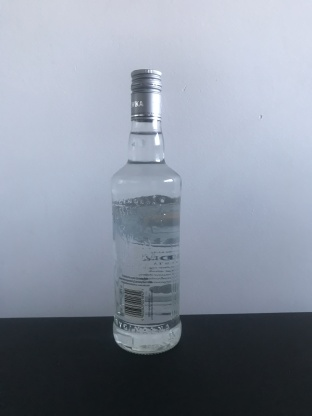nakretka: (129, 66, 163, 124)
